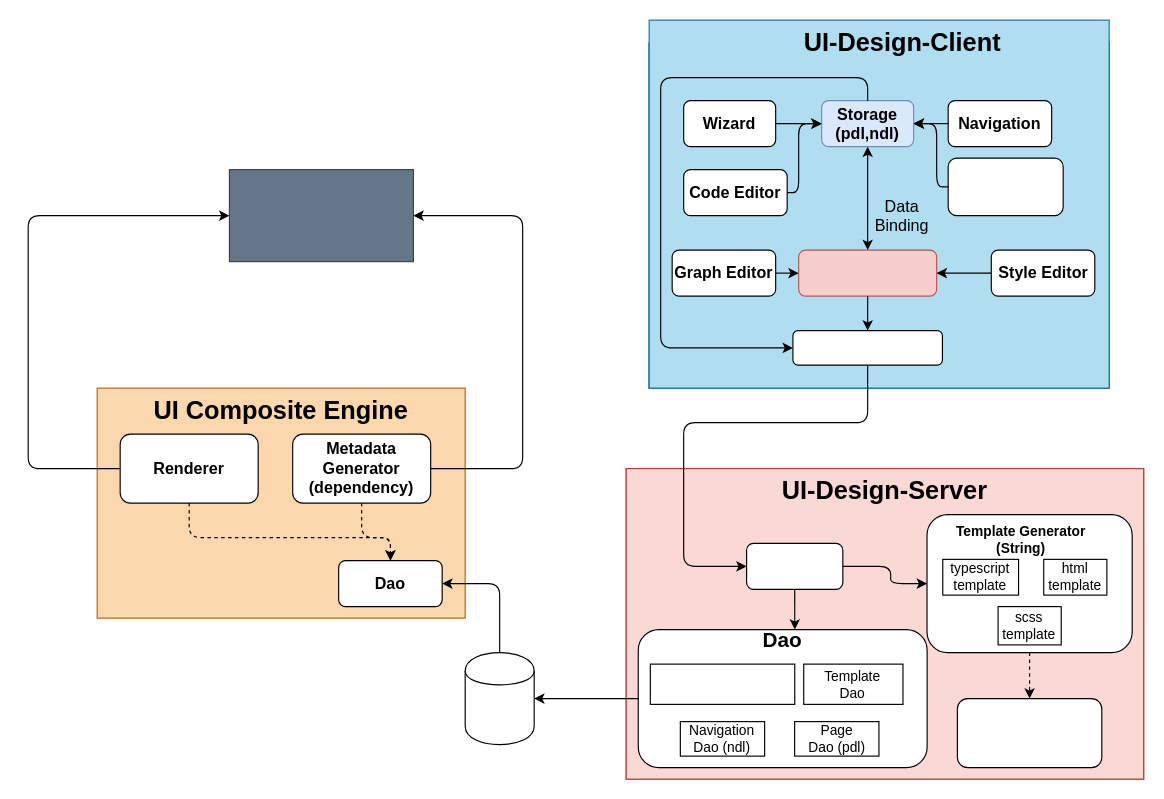
This 1164x799 diagram has some shape labels left out. Here are the shapes that lost their labels. From the top down, the centre of each, then its label:
point 1005,186: Service Component Mapping
point 320,215: Angular Web App
point 867,272: GraphStorage (mxGraph vertex)
point 867,347: Http Client Service
point 794,565: Controller
point 499,698: DB
point 722,683: ServiceComponent Dao
point 1029,732: UI Component Strategy
